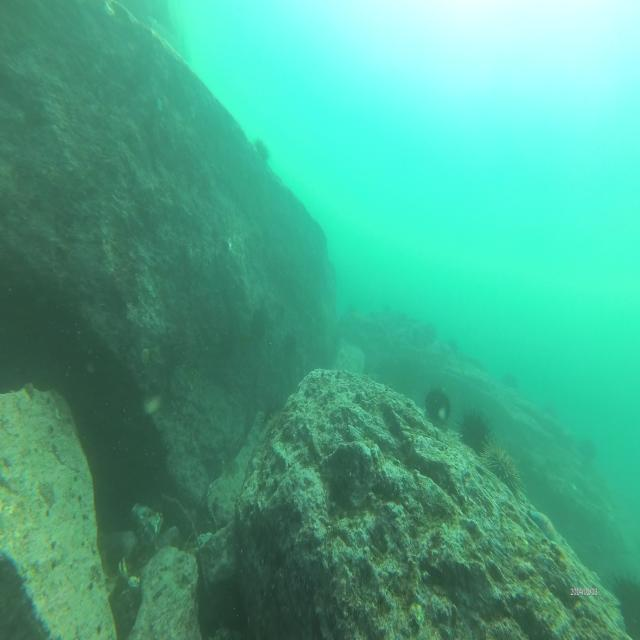echinus: (604, 563, 640, 640), (482, 437, 522, 497), (457, 398, 495, 458), (424, 380, 454, 429), (575, 430, 599, 468), (248, 306, 269, 342), (253, 133, 270, 167), (502, 367, 519, 392), (542, 398, 558, 420), (448, 334, 459, 356)
